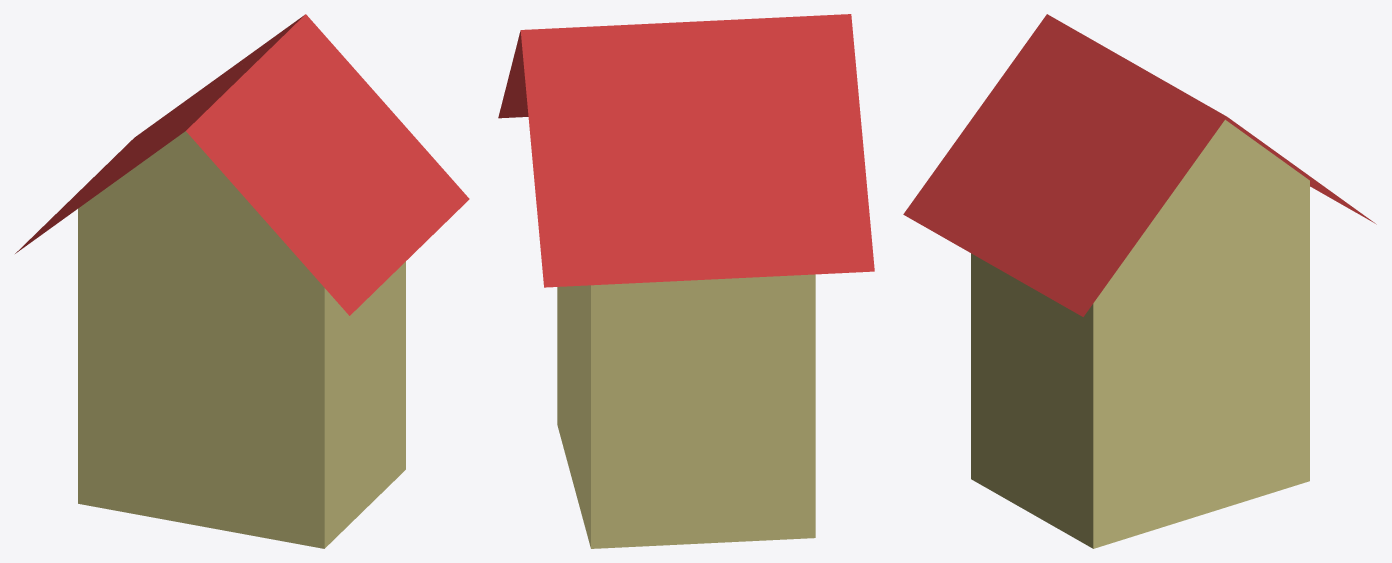
The picture shows the model from 3 angles, left to right: view 1: azimuth 30°, elevation 25°; view 2: azimuth 150°, elevation 25°; view 3: azimuth 270°, elevation 25°; orthographic projection. The views are drawn at different scales.
Size of the model in its own units: 9.51 by 9.78 by 9.45.
